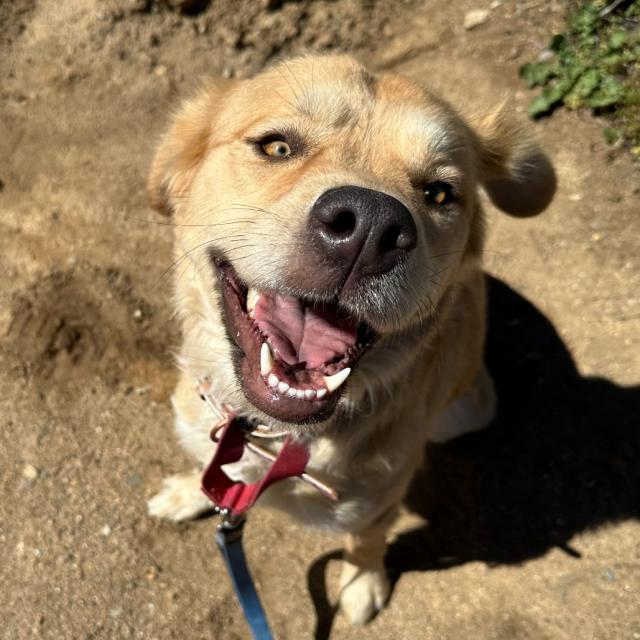golden_retriever_dog: (112, 48, 570, 448)
